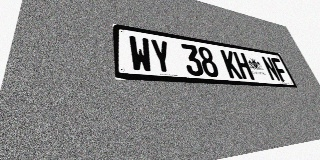3: (181, 43, 205, 76)
8: (197, 46, 220, 77)
F: (270, 57, 291, 82)
H: (233, 51, 255, 80)
K: (220, 49, 243, 79)
N: (260, 56, 281, 81)
W: (128, 35, 154, 73)
Y: (149, 38, 174, 74)
